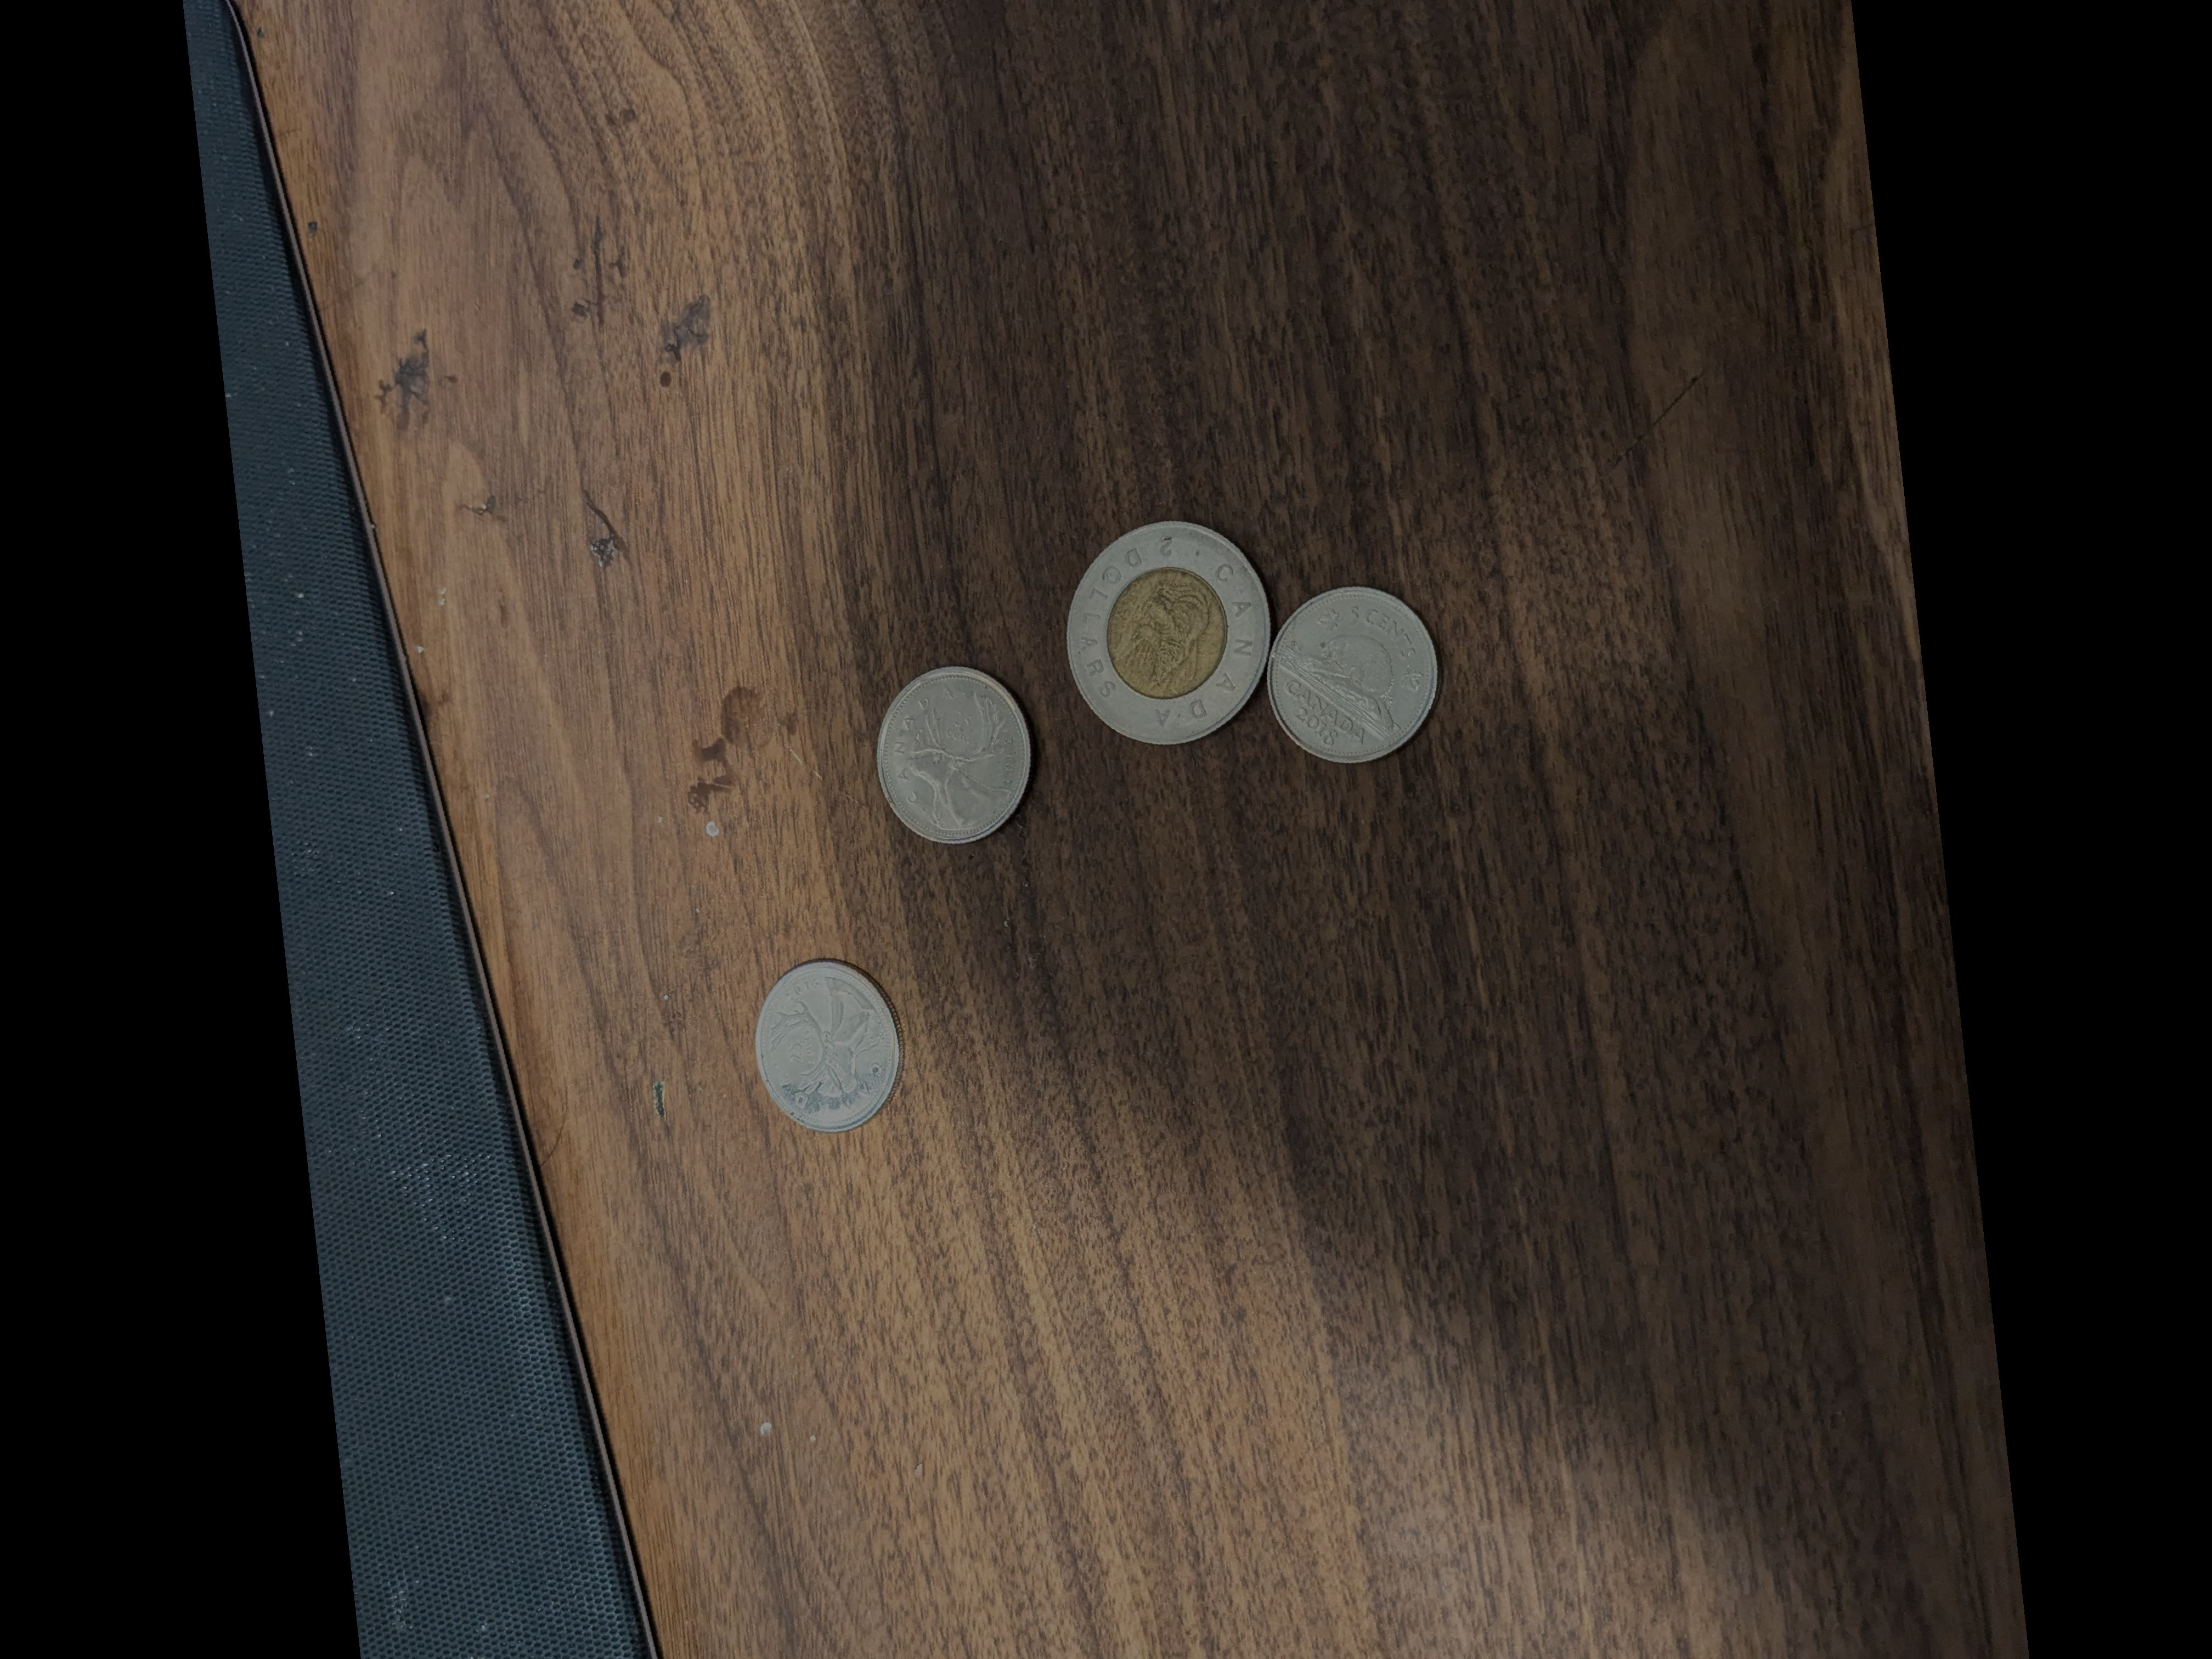nickel: (1263, 586, 1440, 763)
quarter: (878, 657, 1040, 856), (756, 962, 904, 1124)
toonie: (1066, 521, 1270, 744)
